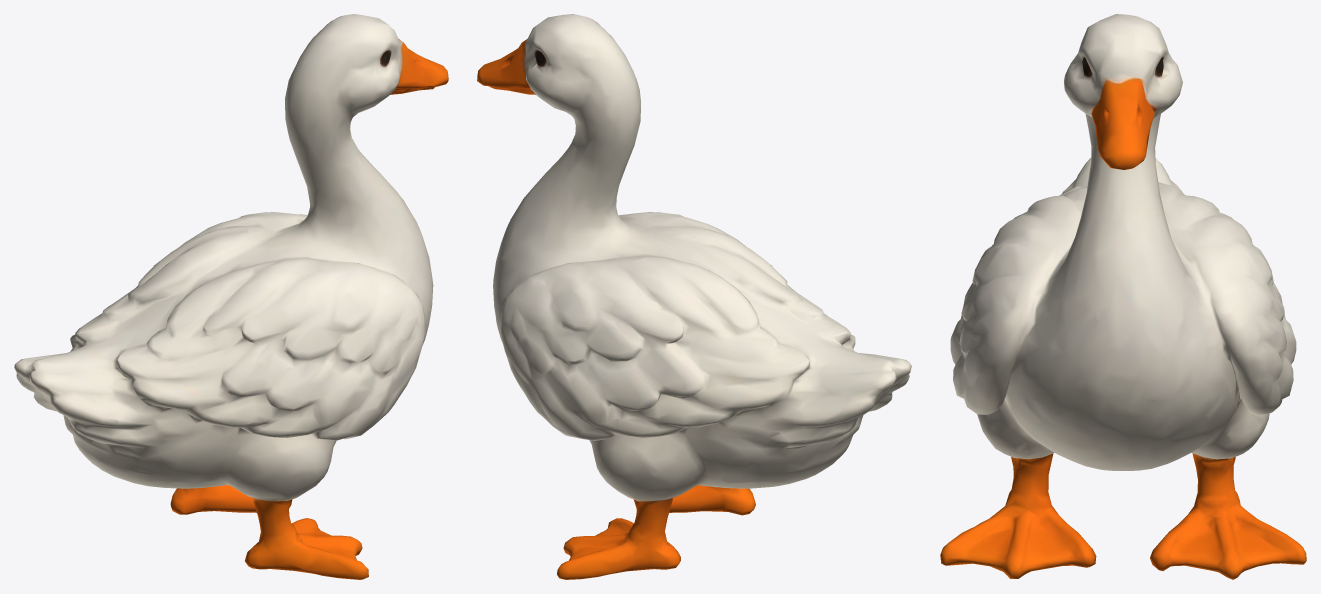
The model's file is goose.glb.
The picture shows the model from 3 angles, left to right: view 1: azimuth 30°, elevation 25°; view 2: azimuth 150°, elevation 25°; view 3: azimuth 270°, elevation 25°; orthographic projection. The views are drawn at different scales.
Visible parts, largest first — view 1: tripo_node_25290976-86da-4b9d-ab7d-5b25b631ef8f; view 2: tripo_node_25290976-86da-4b9d-ab7d-5b25b631ef8f; view 3: tripo_node_25290976-86da-4b9d-ab7d-5b25b631ef8f.
Part boxes in pixels (bbox=[...]): tripo_node_25290976-86da-4b9d-ab7d-5b25b631ef8f: bbox=[14, 14, 448, 579]; tripo_node_25290976-86da-4b9d-ab7d-5b25b631ef8f: bbox=[477, 14, 911, 579]; tripo_node_25290976-86da-4b9d-ab7d-5b25b631ef8f: bbox=[940, 14, 1306, 579].
Bounding box in the file's own units: 0.8979 × 1 × 0.5662.
1 material, 1 textured.
